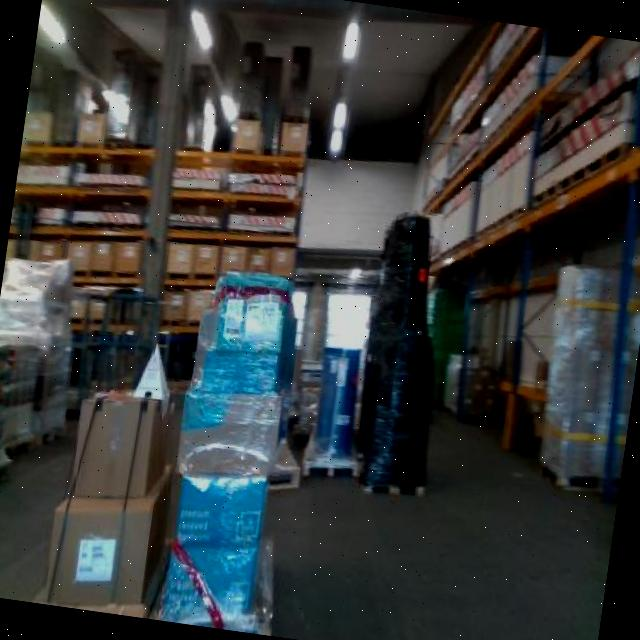pallet: (295, 455, 365, 481)
